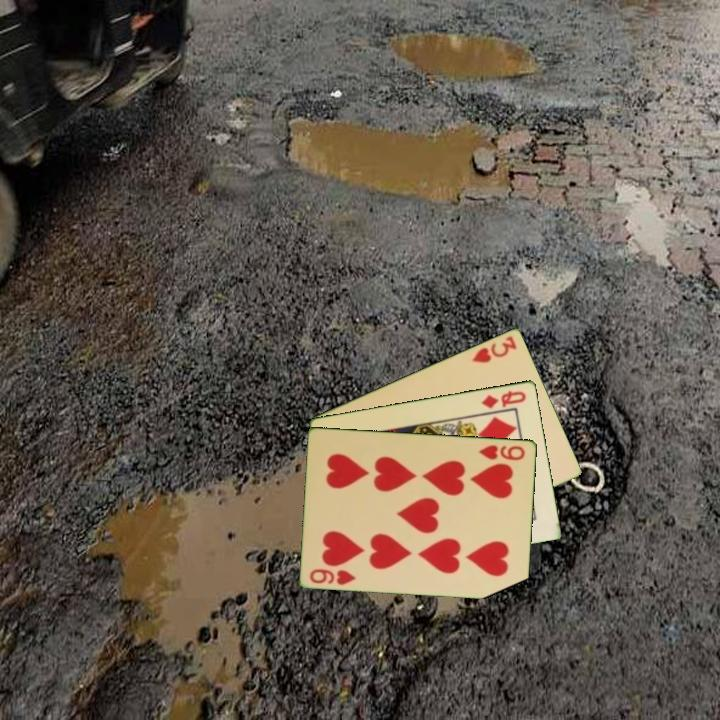3h: (469, 332, 520, 366)
9h: (306, 565, 359, 587), (476, 441, 528, 463)
Qd: (478, 387, 529, 411)
